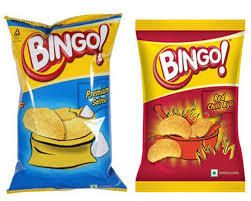VEG: (209, 168, 219, 177)
